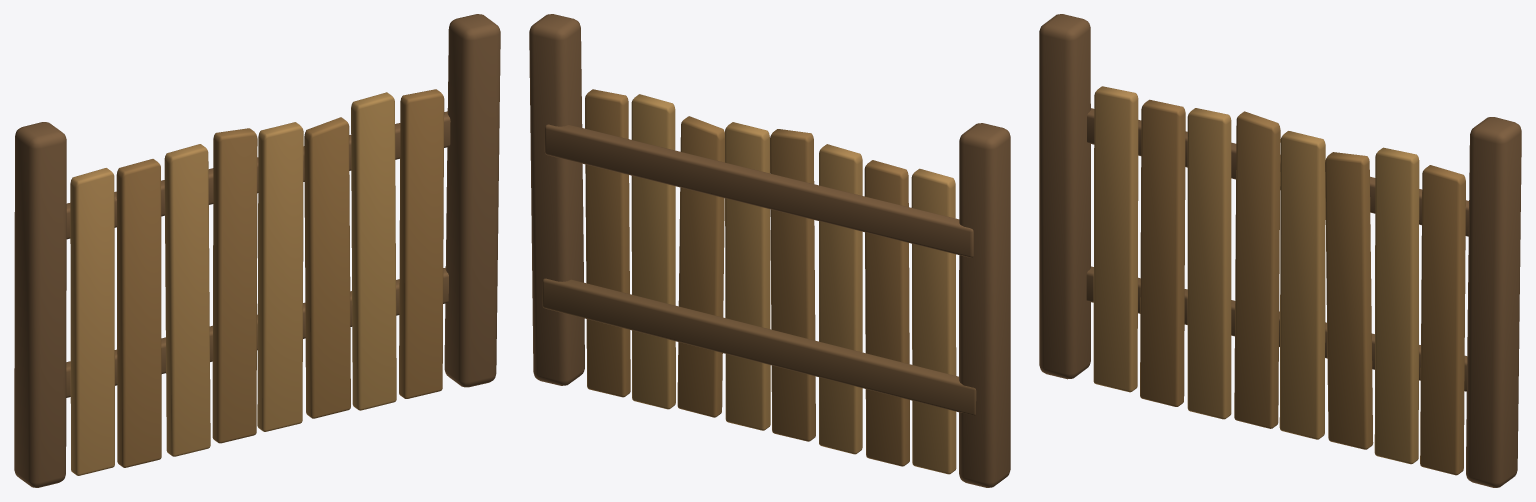
The model's file is tg_fence.glb.
The picture shows the model from 3 angles, left to right: view 1: azimuth 30°, elevation 25°; view 2: azimuth 150°, elevation 25°; view 3: azimuth 330°, elevation 25°; orthographic projection.
Visible parts, largest first — view 1: fence_tg; view 2: fence_tg; view 3: fence_tg.
Boxes of the visible parts, left/top/right/bottom form: fence_tg: left=14, top=14, right=500, bottom=487; fence_tg: left=529, top=14, right=1010, bottom=487; fence_tg: left=1039, top=14, right=1521, bottom=487.
Size of the model in its own units: 1.63 by 1.19 by 0.1436.
